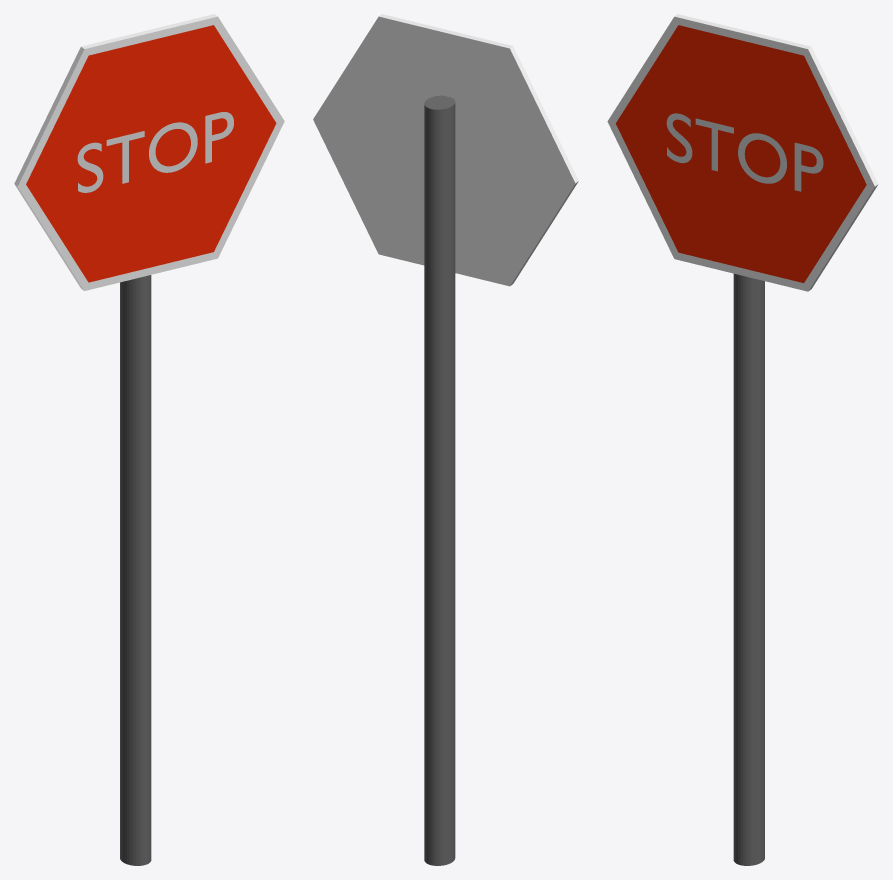
The model's file is Stop.fbx.
3 renders of one model, left to right at view 1: azimuth 30°, elevation 25°; view 2: azimuth 150°, elevation 25°; view 3: azimuth 330°, elevation 25°, orthographic.
Parts seen in each view (by area): view 1: Stoppskylt, Cylinder.003, Text; view 2: Stoppskylt, Cylinder.003; view 3: Stoppskylt, Cylinder.003, Text.
Part boxes in pixels (x1,y1,x2,y2): Stoppskylt: [14, 14, 284, 290]; Cylinder.003: [120, 275, 151, 865]; Text: [77, 112, 233, 192]; Stoppskylt: [313, 14, 578, 286]; Cylinder.003: [424, 95, 455, 865]; Stoppskylt: [607, 14, 878, 291]; Cylinder.003: [733, 273, 764, 865]; Text: [666, 113, 823, 191].
Size of what is drawn, in the model's own units: 1.83 by 5.45 by 0.2485.
